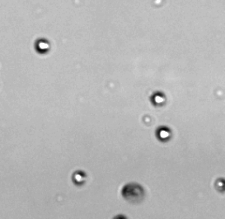Dead Cell: (123, 182, 144, 201)
Living Cell: (35, 39, 50, 53), (157, 127, 171, 141), (73, 171, 86, 185), (152, 93, 166, 105), (215, 178, 224, 191)
